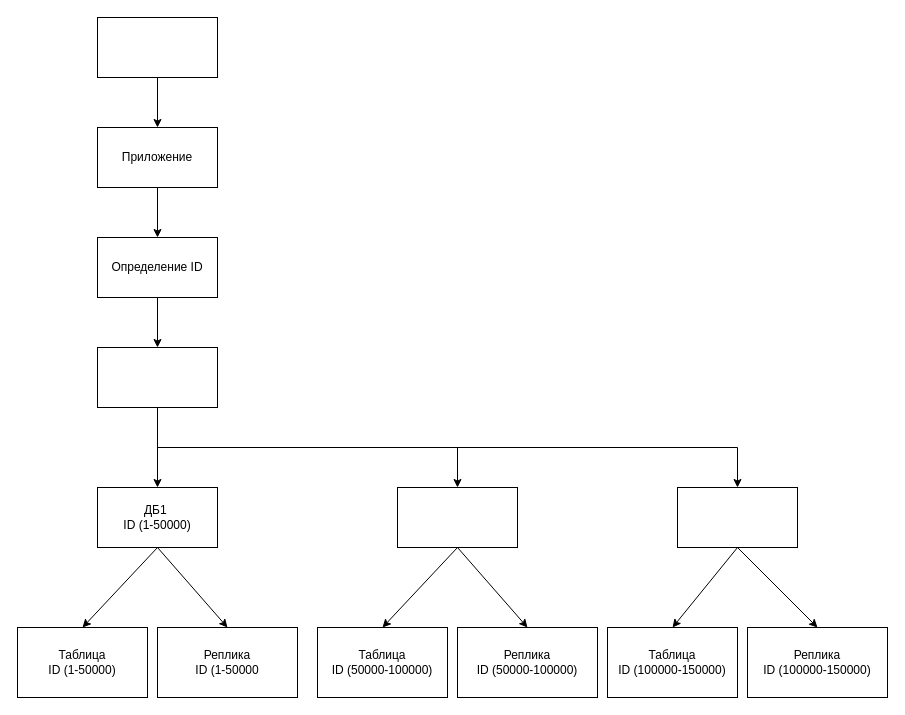
The diagram is 905 pixels wide and 715 high, and some of its shapes have lost their labels. Here are the shapes that lost their labels. From the top down, the centre of each, then its label:
At (157,47): "Клиент".
At (157,377): "Выбор по диапазону ID".
At (457,517): "ДБ2 ID (50000-100000)".
At (737,517): "ДБ3 ID (100000-150000)".
